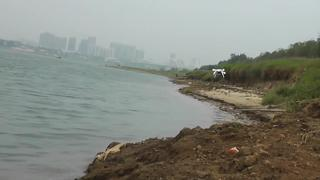UAV: (212, 69, 226, 78)
